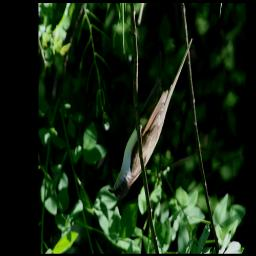Cuckoo: (109, 35, 194, 200)
